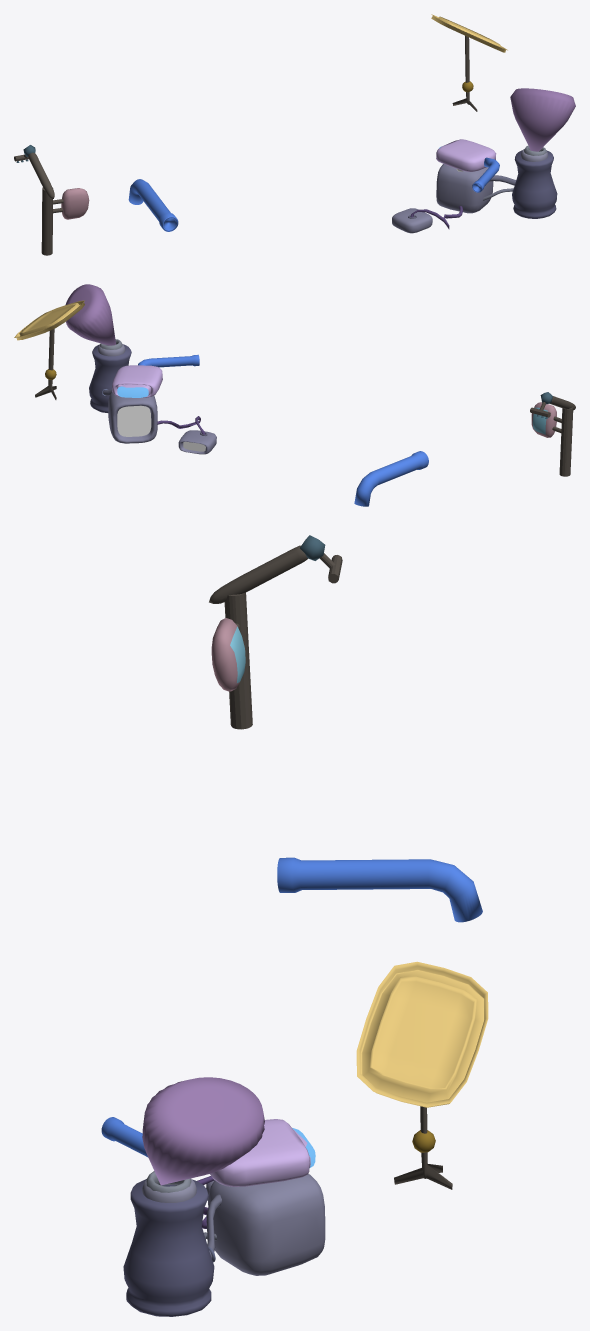
The model's file is working_machine.glb.
The picture shows the model from 3 angles, top to bottom: view 1: azimuth 30°, elevation 25°; view 2: azimuth 150°, elevation 25°; view 3: azimuth 270°, elevation 25°; orthographic projection. The views are drawn at different scales.
Visible parts, largest first — view 1: maquina, maquina_part4.001, maquina_part5.001, maquina_part3.001, maquina_part5.002; view 2: maquina, maquina_part4.001, maquina_part3.001, maquina_part5.001, maquina_part5.002; view 3: maquina, maquina_part3.001, maquina_part5.001, maquina_part4.001.
Boxes of the visible parts, left/top/right/bottom form: maquina: left=392, top=88, right=575, bottom=233; maquina_part4.001: left=14, top=145, right=89, bottom=255; maquina_part5.001: left=128, top=179, right=178, bottom=231; maquina_part3.001: left=431, top=14, right=507, bottom=111; maquina_part5.002: left=472, top=157, right=499, bottom=192; maquina: left=65, top=284, right=216, bottom=454; maquina_part4.001: left=530, top=392, right=575, bottom=476; maquina_part3.001: left=14, top=300, right=84, bottom=399; maquina_part5.001: left=354, top=451, right=428, bottom=506; maquina_part5.002: left=138, top=354, right=199, bottom=367; maquina: left=123, top=1077, right=325, bottom=1316; maquina_part3.001: left=356, top=961, right=488, bottom=1189; maquina_part5.001: left=277, top=857, right=482, bottom=922; maquina_part4.001: left=209, top=535, right=342, bottom=729.
Size of what is drawn, in the model's own units: 18.01 by 5.25 by 5.83.
